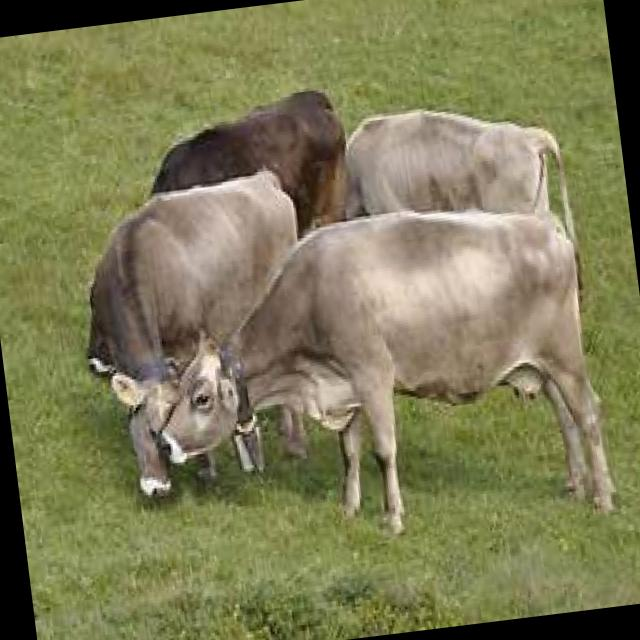cow: (138, 190, 610, 551), (67, 164, 328, 507), (140, 85, 360, 249), (340, 90, 574, 228)
